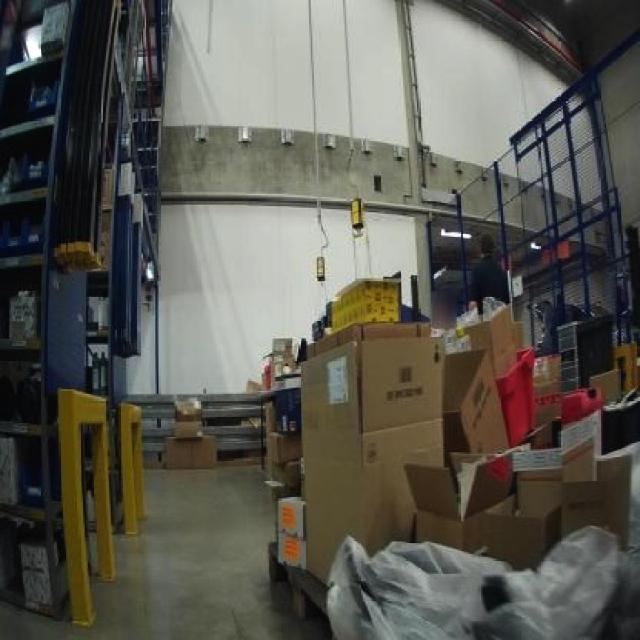pallets: (325, 435, 637, 637), (403, 463, 455, 523)
